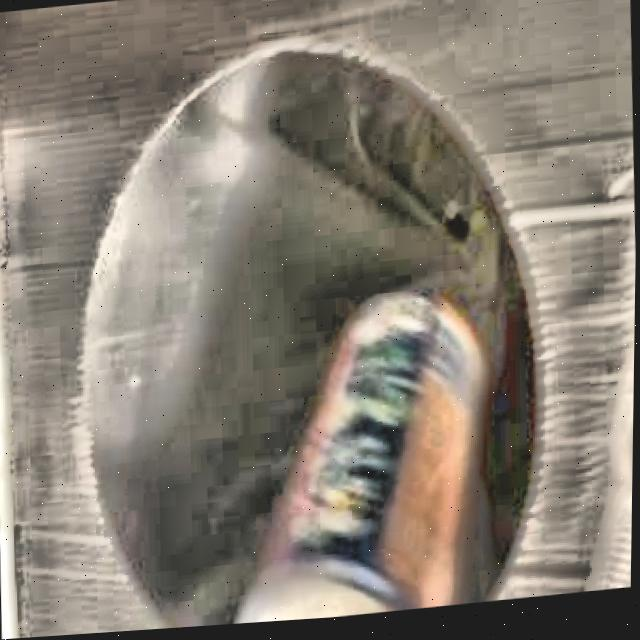metal: (241, 300, 490, 627)
